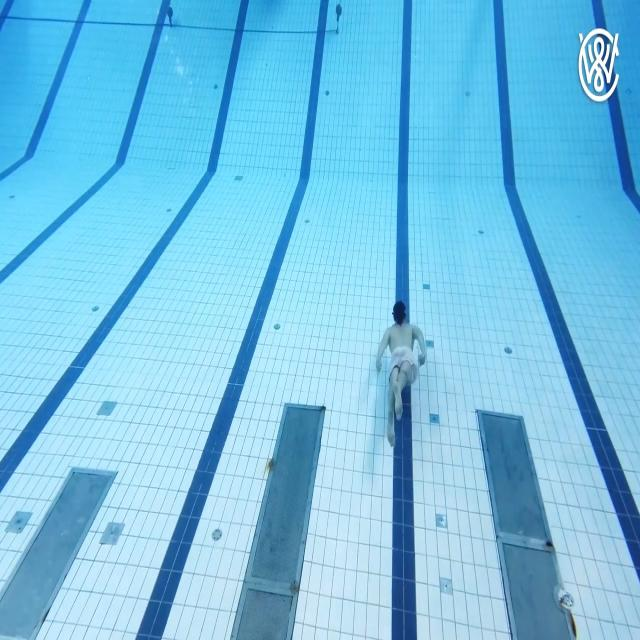Swimming: (375, 301, 429, 451)
